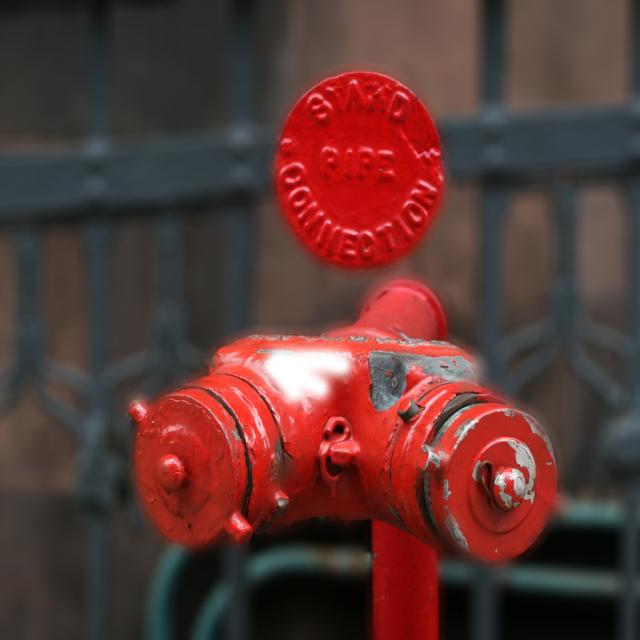fire_hydrant: (127, 280, 565, 640)
